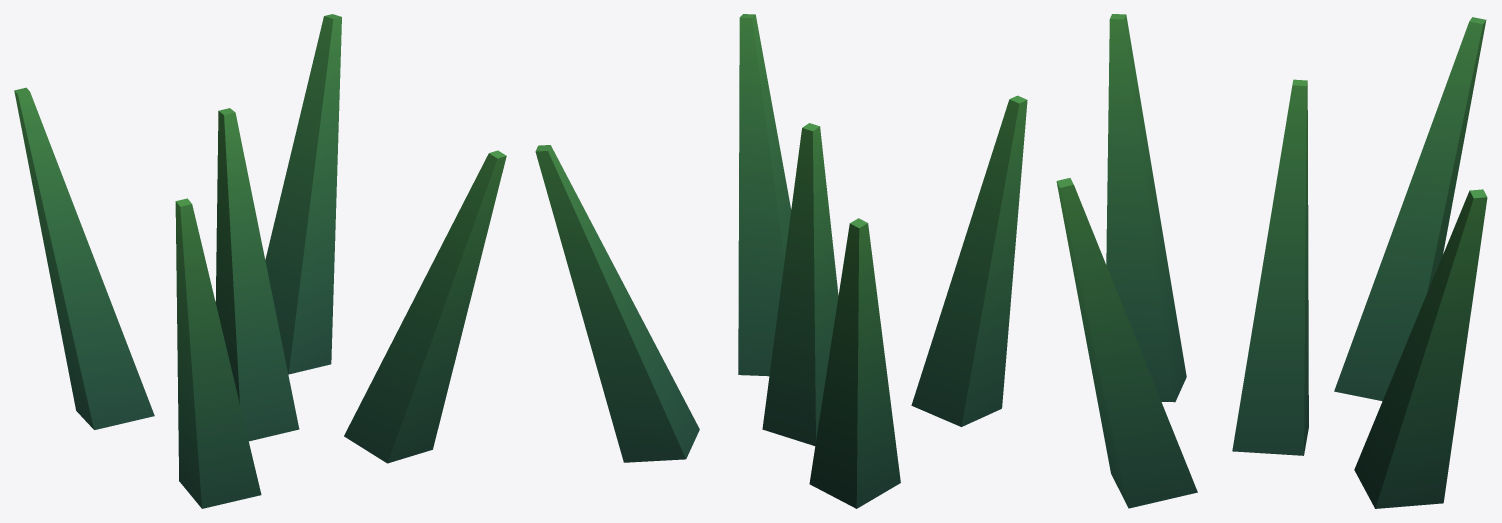
Rendered from GrassBlades.fbx.
3 renders of one model, left to right at view 1: azimuth 30°, elevation 25°; view 2: azimuth 150°, elevation 25°; view 3: azimuth 270°, elevation 25°, orthographic. The views are drawn at different scales.
Visible parts, largest first — view 1: Cube; view 2: Cube; view 3: Cube.
Boxes of the visible parts, <box> form: Cube: <box>14,14,506,508</box>; Cube: <box>535,14,1027,508</box>; Cube: <box>1056,14,1487,508</box>.
Bounding box in the file's own units: 0.3086 × 0.3027 × 0.2802.
